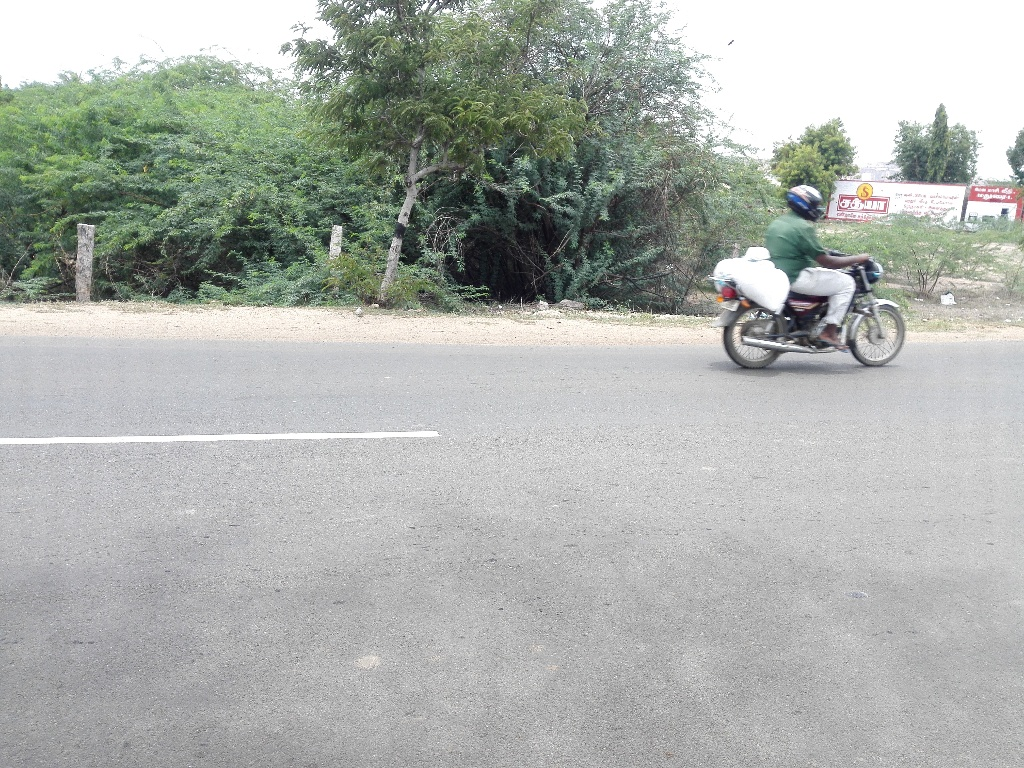biker: (699, 152, 925, 381)
helmet: (777, 170, 837, 237)
